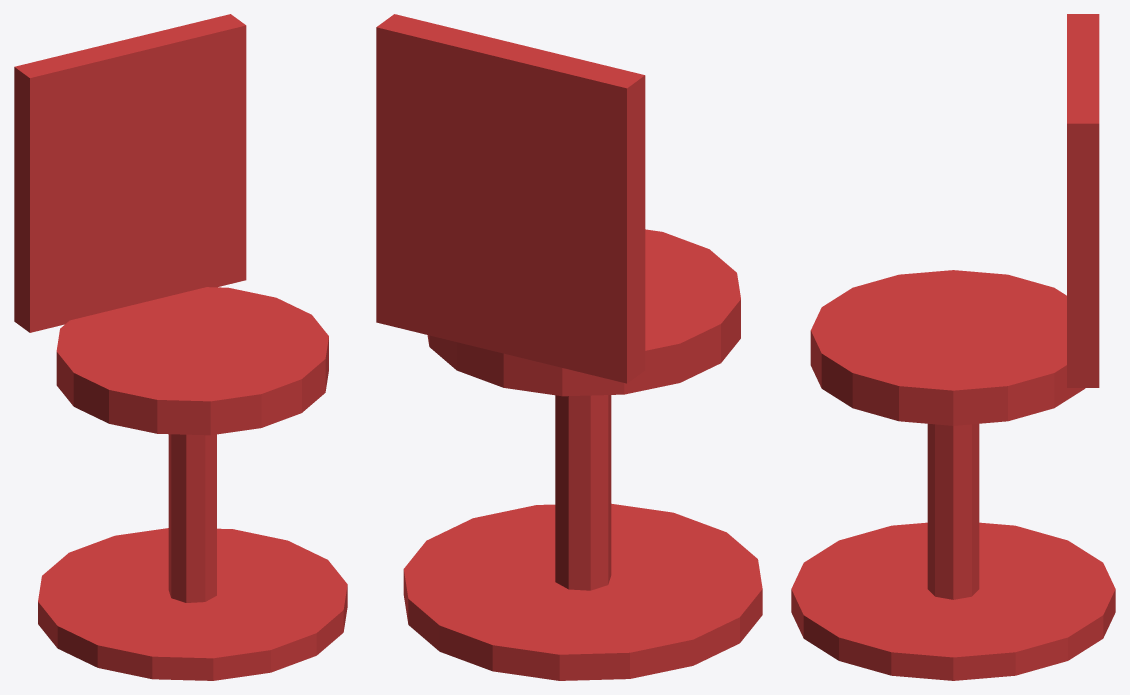
Rendered from food_chair.glb.
3 renders of one model, left to right at view 1: azimuth 30°, elevation 25°; view 2: azimuth 150°, elevation 25°; view 3: azimuth 270°, elevation 25°, orthographic. The views are drawn at different scales.
Parts seen in each view (by area): view 1: p_food_chair; view 2: p_food_chair; view 3: p_food_chair.
Boxes of the visible parts, x1,y1,x2,y2 form: p_food_chair: (14, 14, 347, 680); p_food_chair: (376, 14, 762, 680); p_food_chair: (791, 14, 1115, 680).
Size of the model in its own units: 0.5 by 0.925 by 0.5.
